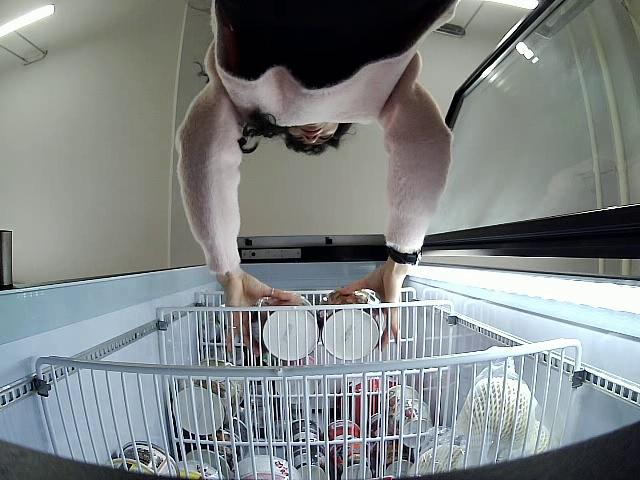00_hand: (220, 273, 301, 359), (338, 262, 404, 349)
05_nuguri_L: (316, 289, 389, 356), (251, 293, 321, 359)
